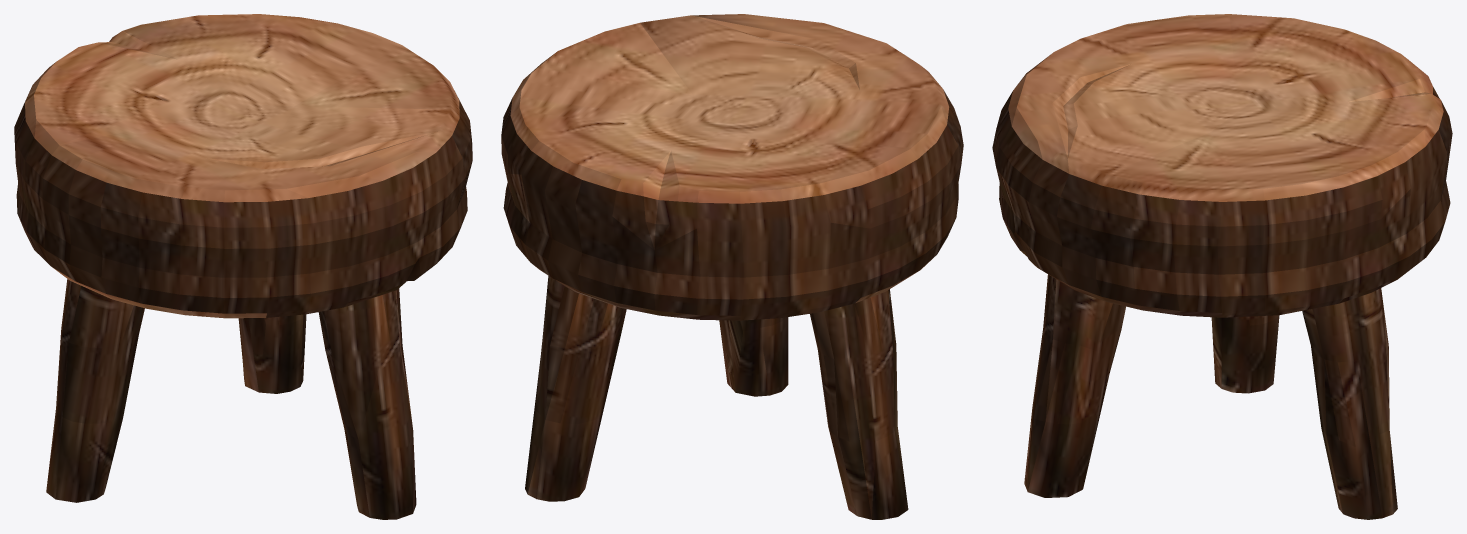
Rendered from stool.glb.
3 views of the same model, side by side, from view 1: azimuth 30°, elevation 25°; view 2: azimuth 150°, elevation 25°; view 3: azimuth 270°, elevation 25° (orthographic).
Parts seen in each view (by area): view 1: stool; view 2: stool; view 3: stool.
Boxes of the visible parts, x1,y1,x2,y2 form: stool: (14,14,472,519); stool: (501,14,963,519); stool: (992,14,1452,519).
Size of the model in its own units: 0.7812 by 0.6693 by 0.7846.
1 material, 1 textured.
